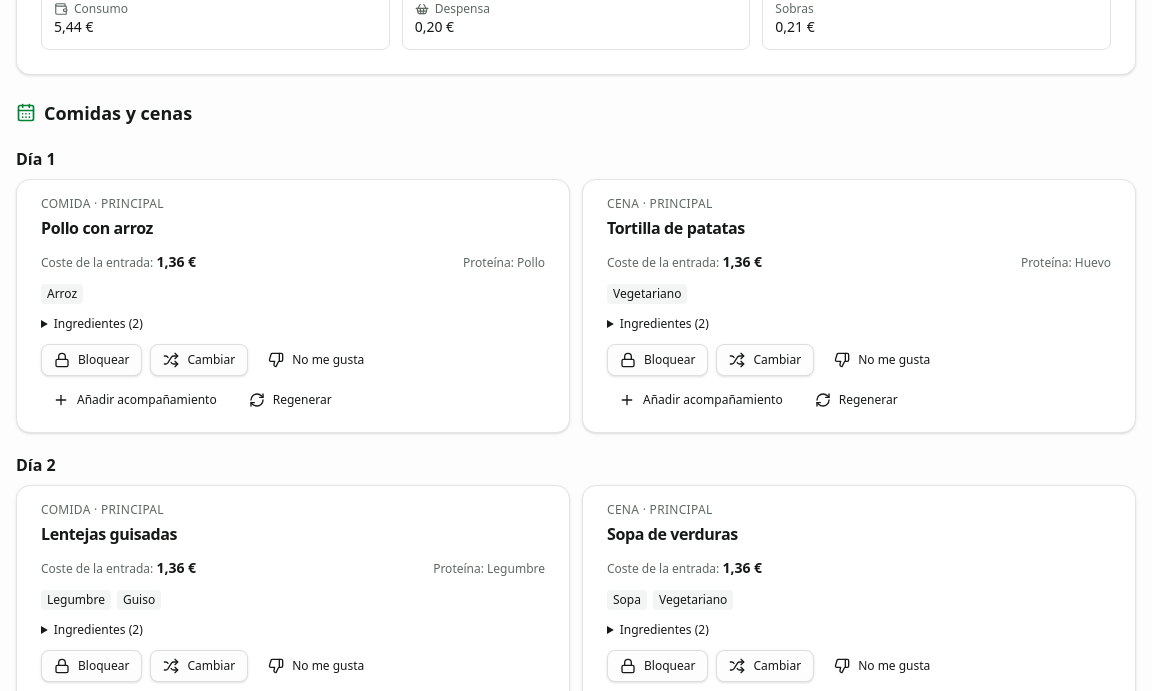
MenuDetailPage › carga los platos elegibles del hueco con los filtros del contrato
(page scrolled)
Click the button with aria-label "Cambiar Tortilla de patatas". click: {"x": 765, "y": 360}
box: [716,344,814,376]
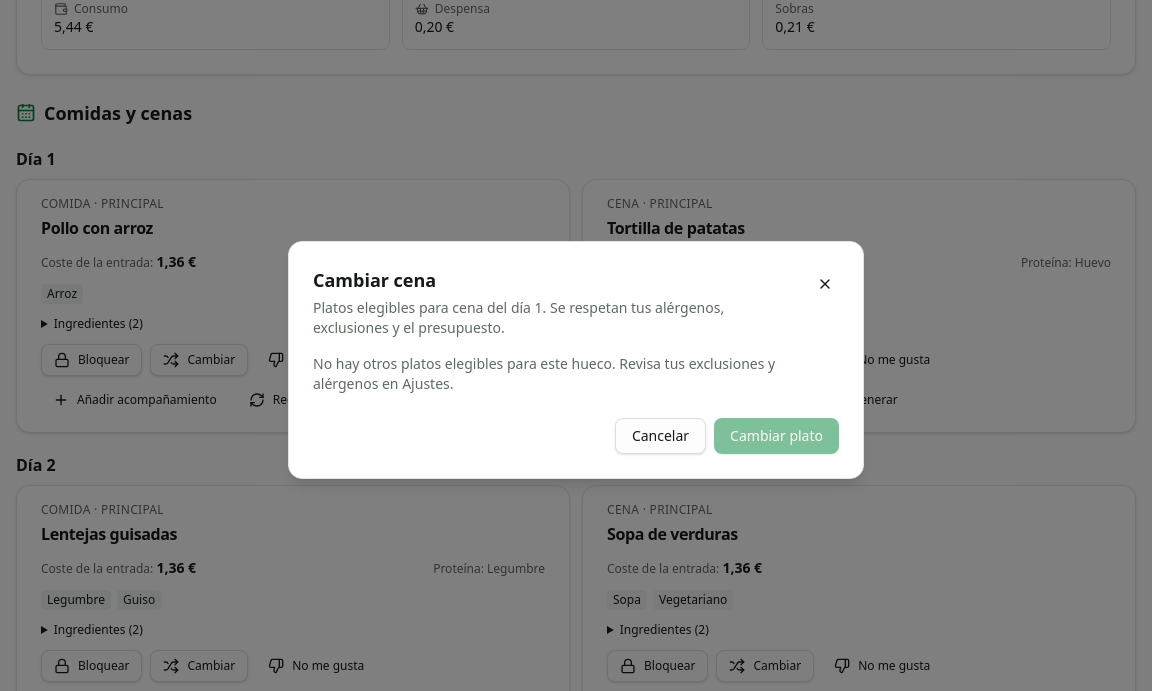
Expected: the text "No hay otros platos elegibles para este hueco" is shown, [313,354,775,393]
